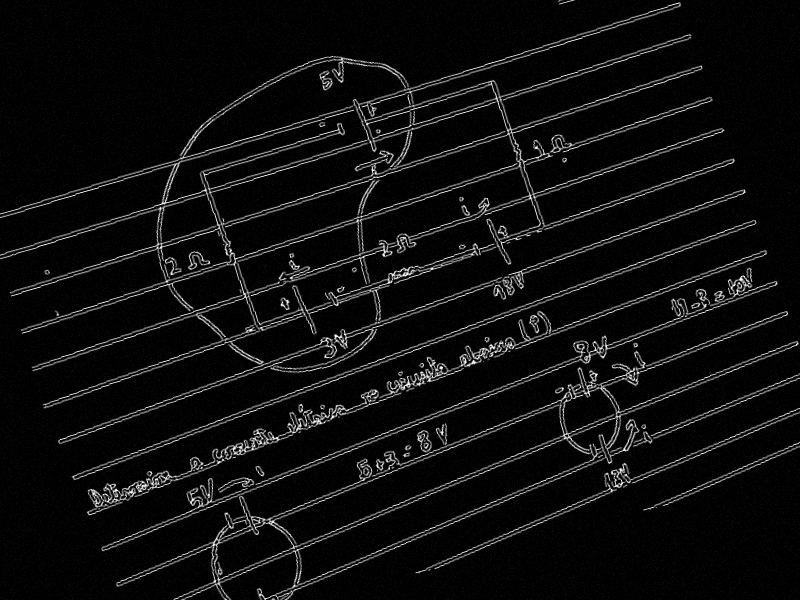-: (552, 385, 566, 395), (689, 300, 702, 310), (335, 284, 347, 294), (714, 293, 726, 303), (713, 288, 725, 298), (403, 443, 413, 453), (457, 242, 468, 251), (317, 120, 328, 128), (402, 451, 412, 458)
0: (731, 277, 746, 296)
1: (528, 134, 550, 161), (599, 469, 619, 496), (489, 281, 509, 305), (666, 295, 683, 318), (724, 276, 740, 299)
2: (162, 254, 184, 279), (374, 235, 395, 260)
3: (316, 333, 338, 361), (381, 447, 403, 472), (694, 285, 713, 312), (501, 272, 517, 298), (609, 467, 625, 492), (675, 296, 691, 318)
5: (183, 485, 207, 514), (352, 456, 376, 482), (316, 67, 337, 92)
8: (571, 338, 594, 366), (413, 426, 435, 454)
V: (195, 475, 221, 507), (588, 333, 614, 362), (330, 326, 352, 352), (432, 420, 453, 447), (329, 59, 350, 85), (615, 460, 635, 487), (738, 265, 758, 291), (510, 269, 528, 292)
p: (526, 313, 544, 336)
